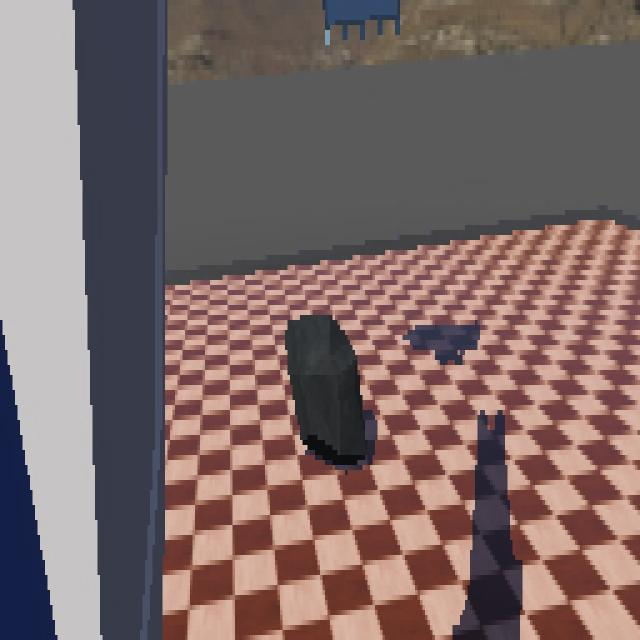rock: (286, 311, 367, 469)
